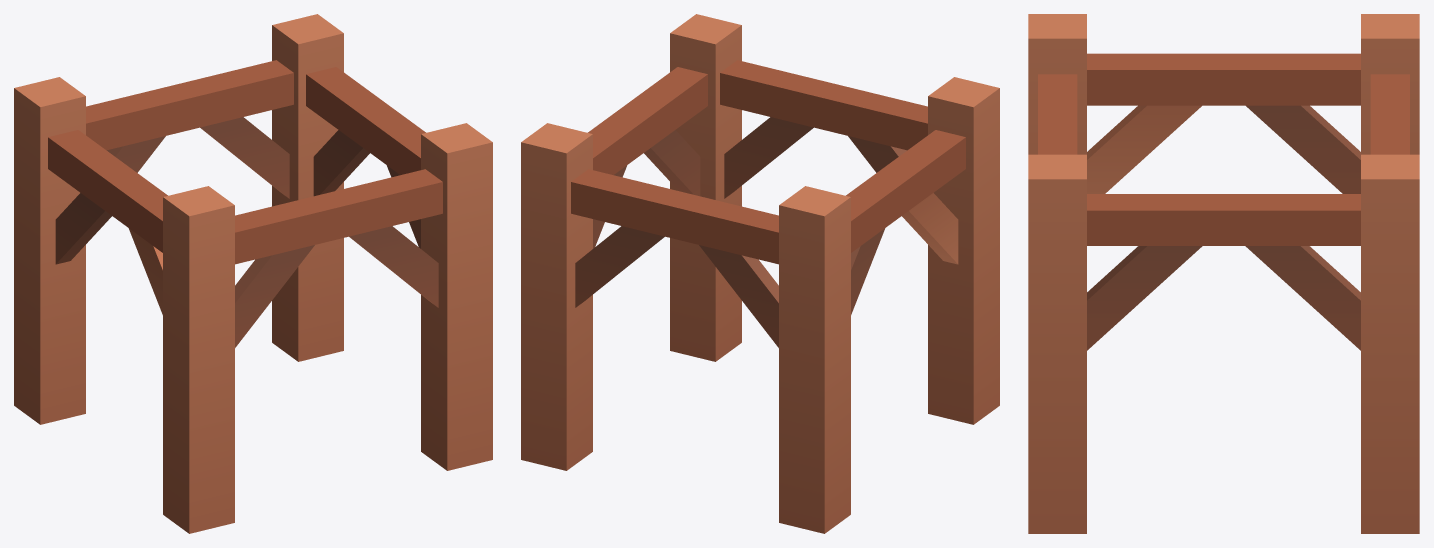
The model's file is building_structure.glb.
The picture shows the model from 3 angles, left to right: view 1: azimuth 30°, elevation 25°; view 2: azimuth 150°, elevation 25°; view 3: azimuth 270°, elevation 25°; orthographic projection. The views are drawn at different scales.
Parts seen in each view (by area): view 1: building-structure; view 2: building-structure; view 3: building-structure.
Part boxes in pixels (box(x1,y1,x2,y2)): building-structure: box(14, 14, 492, 533); building-structure: box(521, 14, 999, 533); building-structure: box(1028, 14, 1419, 533).
Bounding box in the file's own units: 1 × 1 × 1.
Materials: 1 (1 with a texture image).
